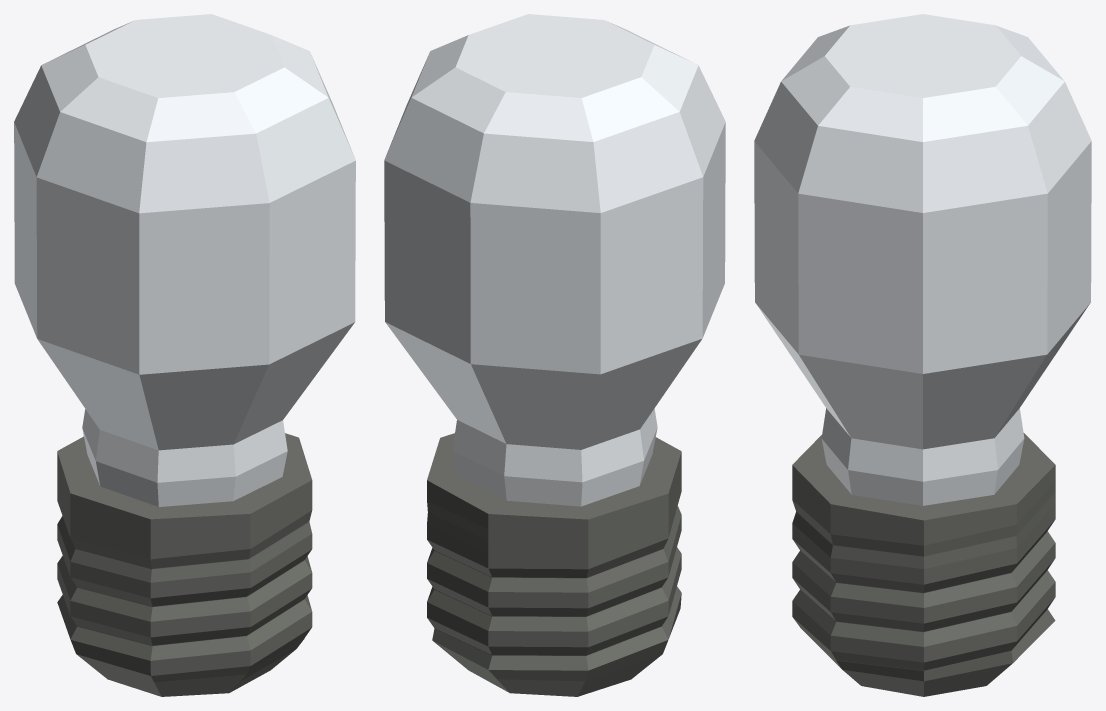
Rendered from Glühbirne.fbx.
3 renders of one model, left to right at view 1: azimuth 30°, elevation 25°; view 2: azimuth 150°, elevation 25°; view 3: azimuth 270°, elevation 25°, orthographic.
Visible parts, largest first — view 1: Birne, Bolt; view 2: Birne, Bolt; view 3: Birne, Bolt.
Boxes of the visible parts, box(x1,y1,x2,y2) form: Birne: box(14, 14, 355, 506); Bolt: box(57, 433, 312, 696); Birne: box(384, 14, 725, 506); Bolt: box(427, 433, 681, 696); Birne: box(754, 14, 1091, 505); Bolt: box(792, 433, 1055, 696).
Size of the model in its own units: 441 by 859 by 436.
